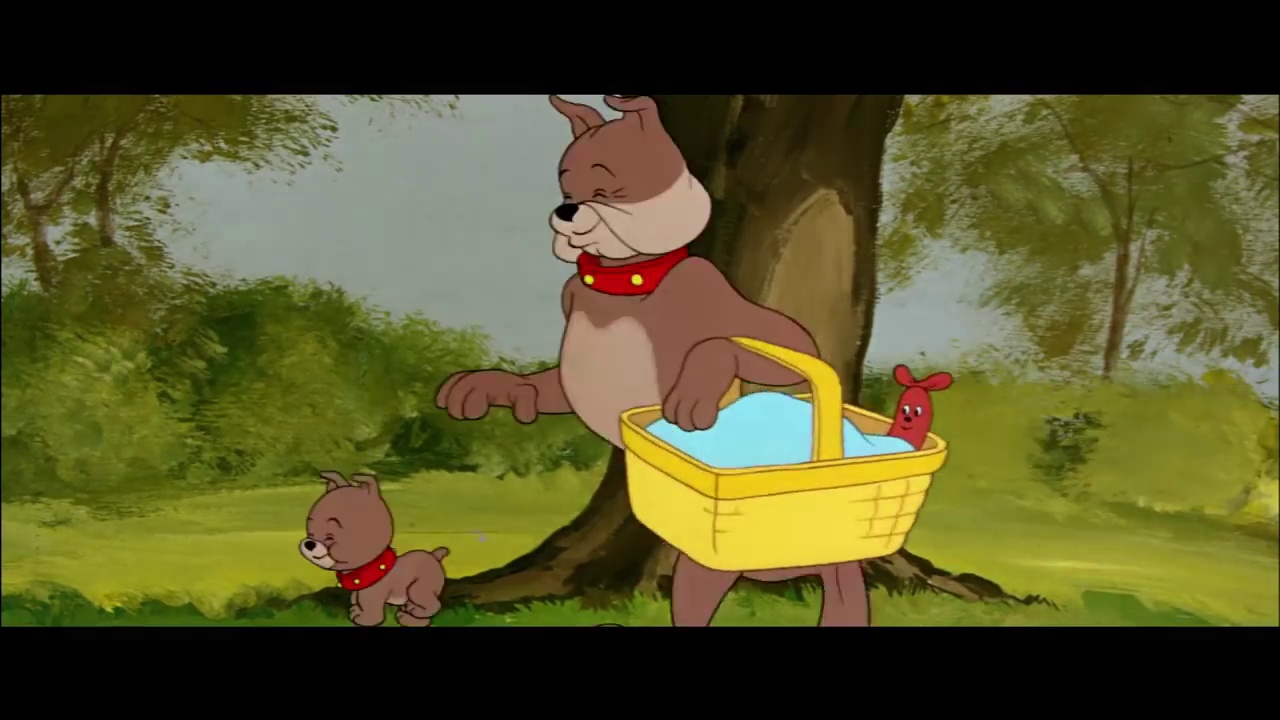spike: (537, 95, 712, 300)
